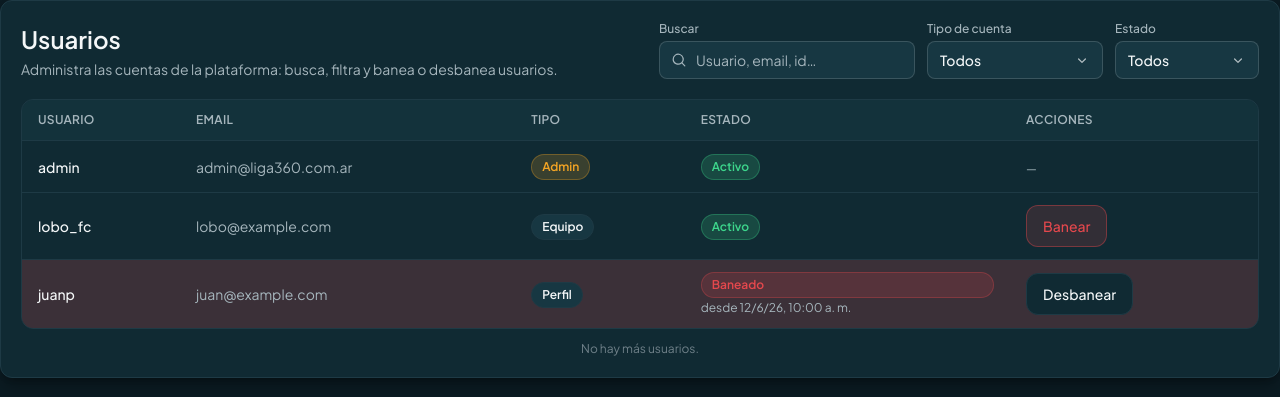
Test case: AdminUsersPage › desbanea sin confirmación
Click the button "Desbanear" at [1080, 294], box [1026,273,1133,315]
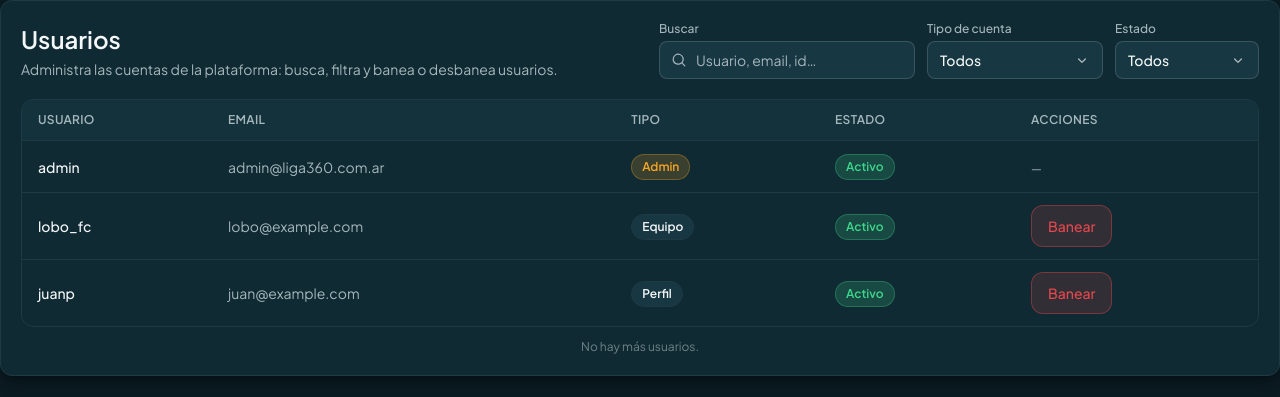
Now the text "Baneado" is gone
